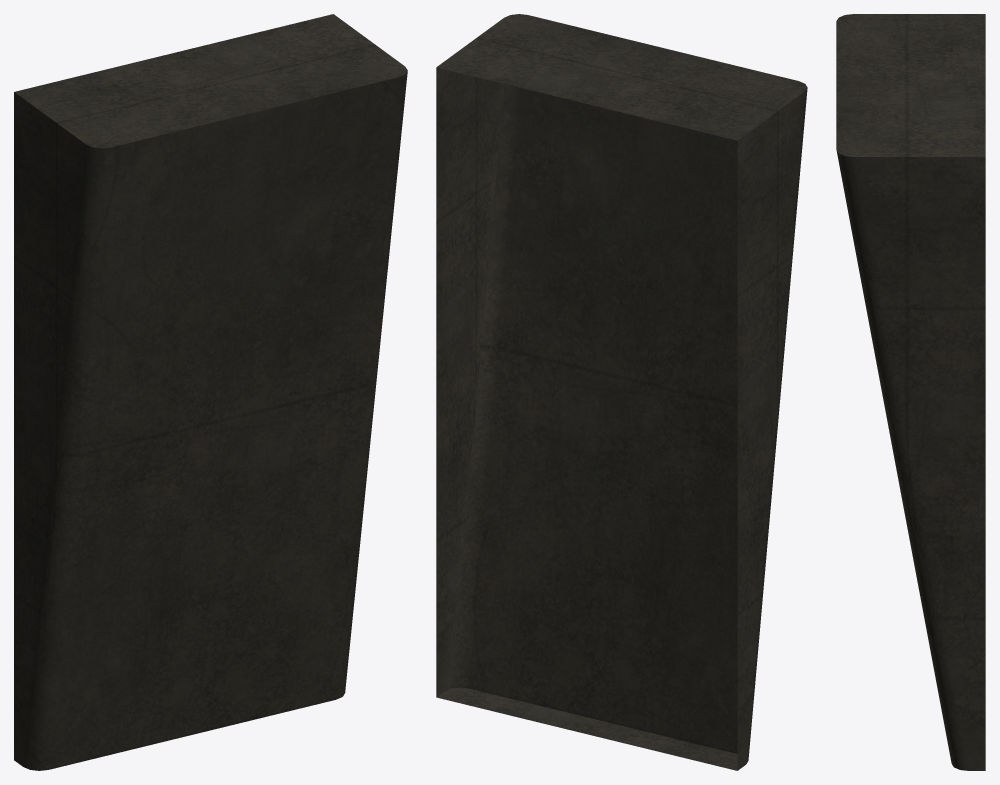
The model's file is wall_element_1_bottom_short.obj.
3 views of the same model, side by side, from view 1: azimuth 30°, elevation 25°; view 2: azimuth 150°, elevation 25°; view 3: azimuth 270°, elevation 25° (orthographic). The views are drawn at different scales.
Parts seen in each view (by area): view 1: wall_element_1_bottom_short; view 2: wall_element_1_bottom_short; view 3: wall_element_1_bottom_short.
Part boxes in pixels (bbox=[...]): wall_element_1_bottom_short: bbox=[14, 14, 407, 770]; wall_element_1_bottom_short: bbox=[436, 14, 807, 770]; wall_element_1_bottom_short: bbox=[836, 14, 985, 770].
Bounding box in the file's own units: 1 × 2 × 0.44.
